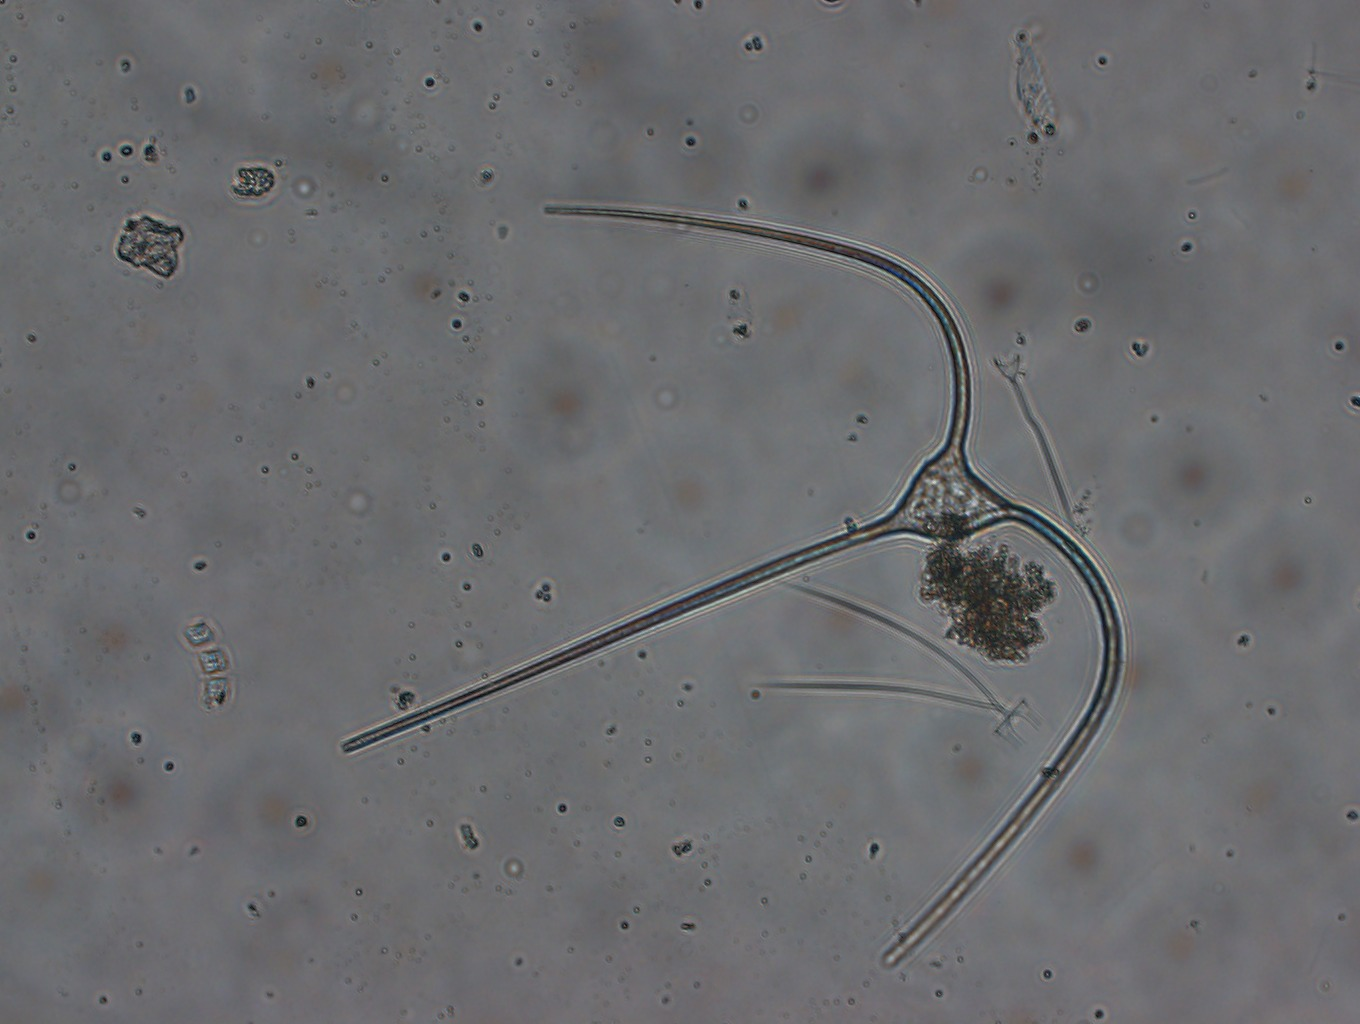ceratium trichoceros: (327, 193, 1134, 975)
